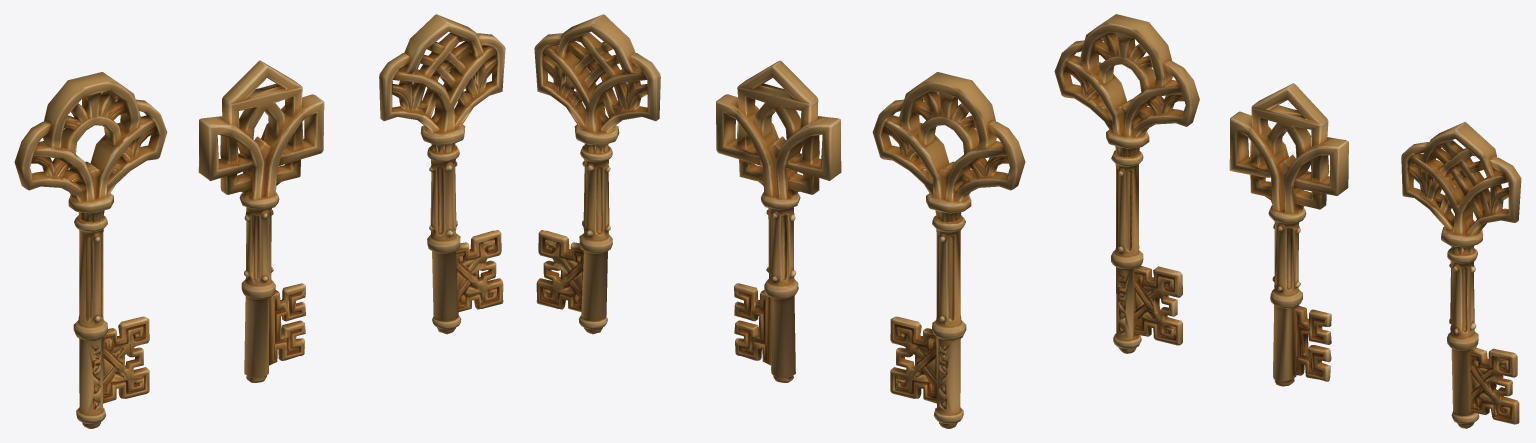
The model's file is Keys.fbx.
The picture shows the model from 3 angles, left to right: view 1: azimuth 30°, elevation 25°; view 2: azimuth 150°, elevation 25°; view 3: azimuth 330°, elevation 25°; orthographic projection. The views are drawn at different scales.
Parts seen in each view (by area): view 1: Key.000, Key.001, Key.002; view 2: Key.000, Key.001, Key.002; view 3: Key.000, Key.001, Key.002.
Boxes of the visible parts, x1,y1,x2,y2 form: Key.000: [14, 72, 167, 428]; Key.001: [198, 60, 324, 382]; Key.002: [379, 14, 505, 334]; Key.000: [872, 72, 1025, 428]; Key.001: [716, 60, 841, 382]; Key.002: [534, 14, 660, 334]; Key.000: [1054, 14, 1199, 353]; Key.001: [1229, 83, 1348, 386]; Key.002: [1401, 121, 1521, 428].
Bounding box in the file's own units: 118 × 80.73 × 9.01.
